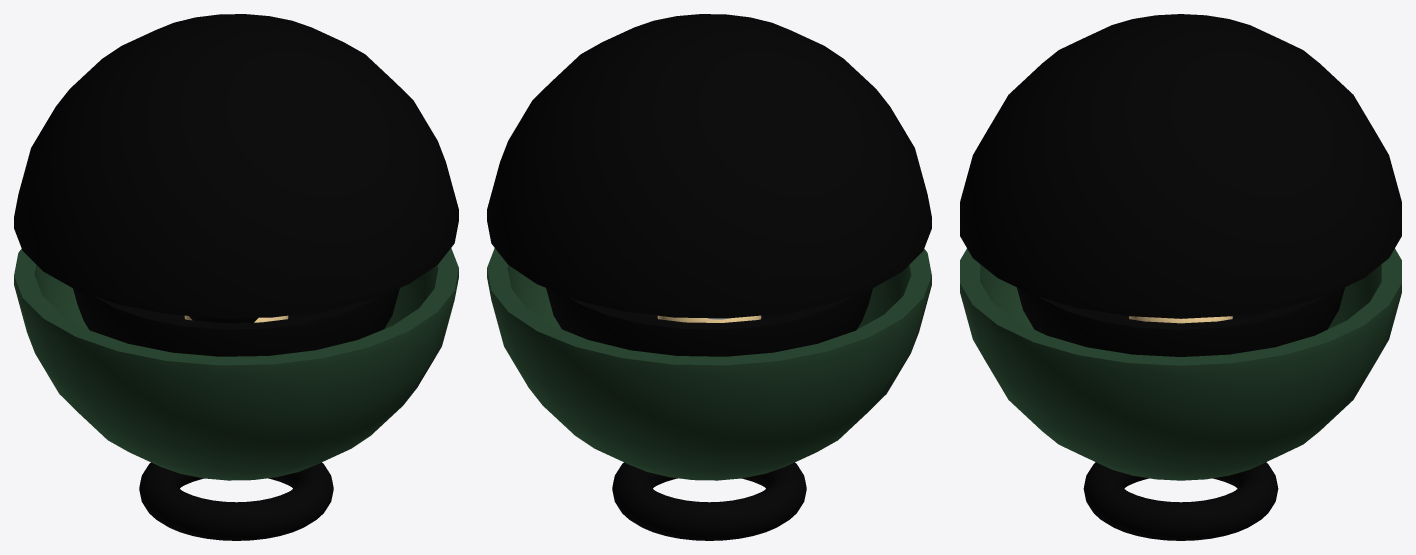
The model's file is gem paisible mood 1.fbx.
3 renders of one model, left to right at view 1: azimuth 30°, elevation 25°; view 2: azimuth 150°, elevation 25°; view 3: azimuth 270°, elevation 25°, orthographic.
Parts seen in each view (by area): view 1: Sphère, Sphère_1, Sphère_2, Tore; view 2: Sphère, Sphère_1, Sphère_2, Tore; view 3: Sphère, Sphère_1, Sphère_2, Tore.
Part boxes in pixels (x1,y1,x2,y2): Sphère: (14,14,458,318); Sphère_1: (14,248,458,480); Sphère_2: (73,288,399,356); Tore: (139,462,333,540); Sphère: (487,14,931,318); Sphère_1: (487,248,931,480); Sphère_2: (546,288,872,356); Tore: (612,462,806,540); Sphère: (960,14,1401,318); Sphère_1: (960,248,1401,480); Sphère_2: (1017,287,1344,356); Tore: (1083,462,1278,540).
Bounding box in the file's own units: 10.94 × 12.77 × 10.86.
